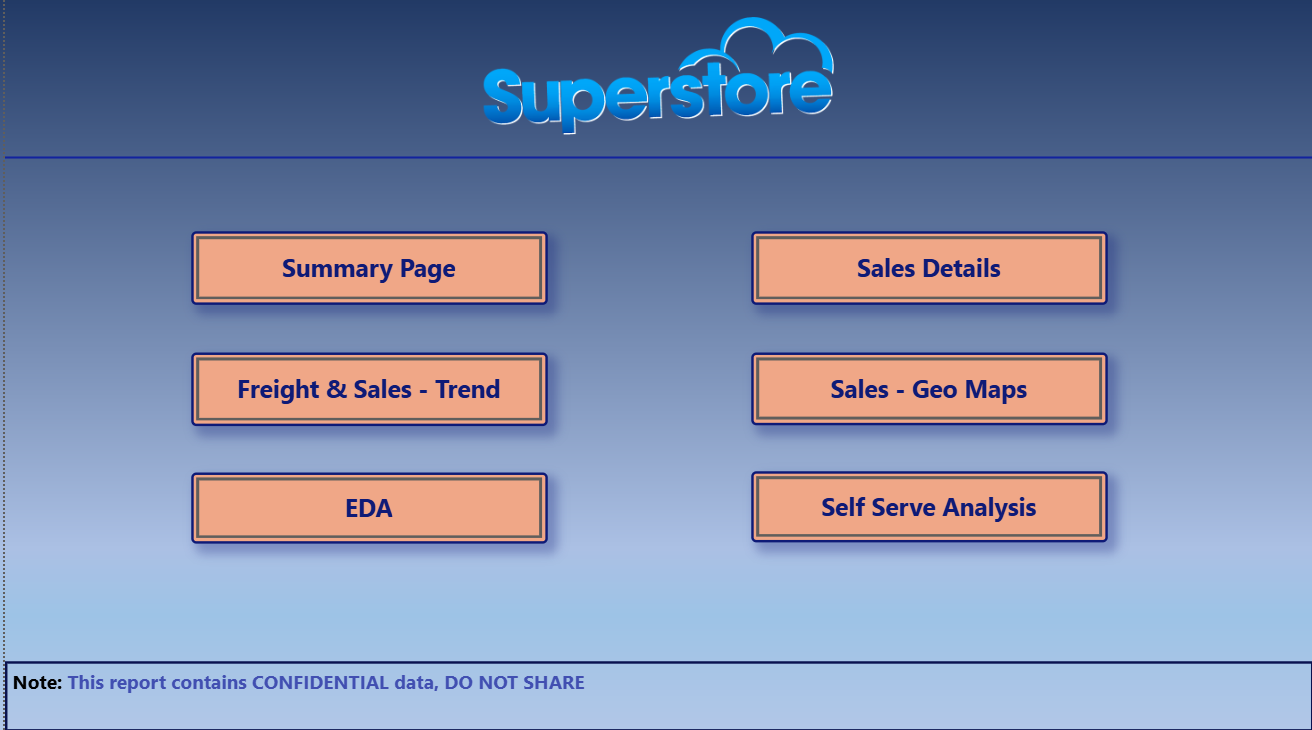

What the dashboard file says about the page in this screenshot:
{"tool":"powerbi","page":{"name":"Home Page","canvas":[1280,720],"ordinal":0},"visuals":[{"type":"image","box":[463.5,0,352.2,159],"z":0},{"type":"textbox","box":[0,651.8,1280.3,68.5],"z":1000},{"type":"actionButton","box":[182.2,467.1,348.5,69.7],"z":4000},{"type":"actionButton","box":[730,349.7,348.5,70.9],"z":5000},{"type":"actionButton","box":[730,231.1,348.5,72.1],"z":6000},{"type":"actionButton","box":[730,465.9,348.5,69.7],"z":7000},{"type":"actionButton","box":[182.2,349.7,348.5,72.1],"z":10000},{"type":"actionButton","box":[182.2,231.1,348.5,72.1],"z":11000},{"type":"shape","box":[0,139.4,1280.3,39.1],"z":12000}]}

Visuals, with their boxes in screenshot pixels (x1, y1, x2, y2), scaled from the page's 1280x720 canvas onto the 1312x730 screenshot:
image: 475/0/836/161
textbox: 0/661/1311/729
actionButton: 187/474/544/544
actionButton: 748/355/1105/426
actionButton: 748/234/1105/307
actionButton: 748/472/1105/543
actionButton: 187/355/544/428
actionButton: 187/234/544/307
shape: 0/141/1311/181
